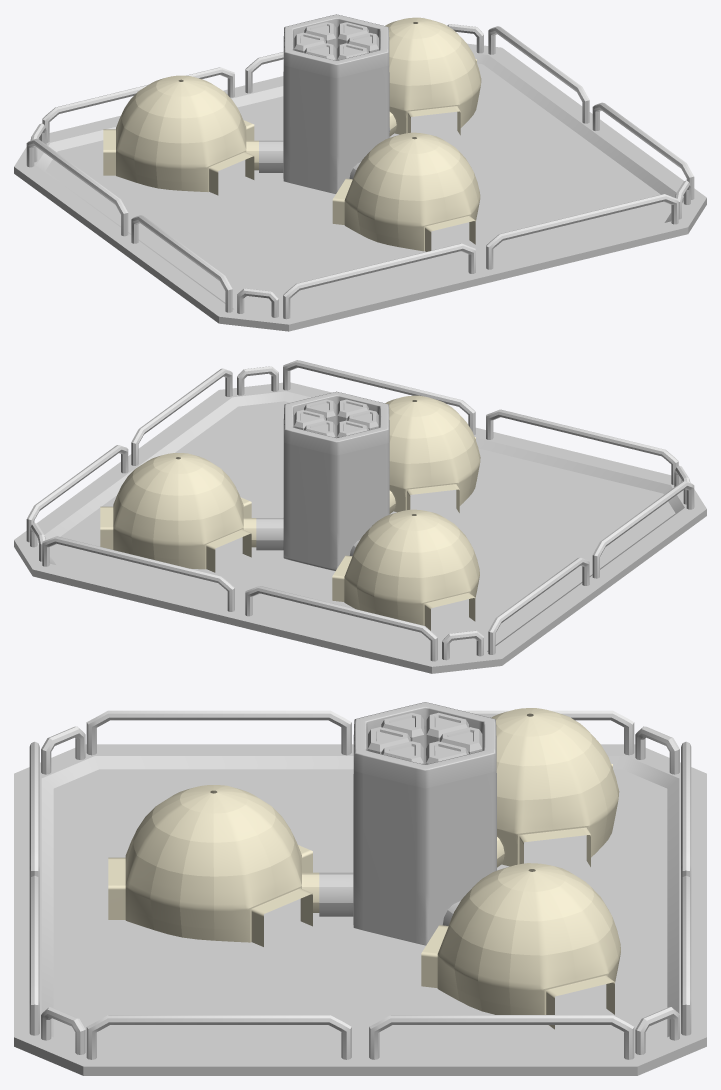
The model's file is C.C_Turbo.fbx.
The picture shows the model from 3 angles, top to bottom: view 1: azimuth 30°, elevation 25°; view 2: azimuth 150°, elevation 25°; view 3: azimuth 270°, elevation 25°; orthographic projection. The views are drawn at different scales.
Visible parts, largest first — view 1: Box006, Cylinder008, 01.CommandCenter003, 01.CommandCenter005, 01.CommandCenter004, Shape003, Shape004, Shape007, Shape006, Shape005, Shape010, Shape009 (+1 smaller); view 2: Box006, Cylinder008, 01.CommandCenter004, 01.CommandCenter003, 01.CommandCenter005, Shape008, Shape007, Shape003, Shape004, Shape005, Shape009, Shape006 (+3 smaller); view 3: Box006, Cylinder008, 01.CommandCenter005, 01.CommandCenter004, 01.CommandCenter003, Shape005, Shape009, Shape010, Shape004, Shape008, Shape003, Shape007 (+9 smaller).
Boxes of the visible parts, x1,y1,x2,y2 form: Box006: (14,43,706,331); Cylinder008: (259,14,389,193); 01.CommandCenter003: (103,75,258,195); 01.CommandCenter005: (332,132,480,251); 01.CommandCenter004: (385,17,481,136); Shape003: (283,243,475,319); Shape004: (486,194,678,269); Shape007: (42,67,234,142); Shape006: (26,138,128,236); Shape005: (131,215,232,312); Shape010: (488,26,589,123); Shape009: (592,102,694,199); Box006: (14,382,706,673); Cylinder008: (256,391,389,570); 01.CommandCenter004: (100,453,256,572); 01.CommandCenter003: (332,509,479,630); 01.CommandCenter005: (385,395,480,513); Shape008: (42,536,234,611); Shape007: (245,586,437,661); Shape003: (486,409,678,484); Shape004: (283,360,475,435); Shape005: (592,481,694,578); Shape009: (131,368,232,465); Shape006: (488,557,589,654); Box006: (14,744,706,1075); Cylinder008: (319,702,496,945); 01.CommandCenter005: (108,785,319,946); 01.CommandCenter004: (421,863,620,1029); 01.CommandCenter003: (491,708,619,867); Shape005: (86,710,351,755); Shape009: (86,1015,351,1059); Shape010: (369,1015,634,1059); Shape004: (29,875,39,1035); Shape008: (681,875,691,1035); Shape003: (29,741,39,880); Shape007: (681,741,691,880).
Size of the model in its own units: 1100 by 285 by 1000.
